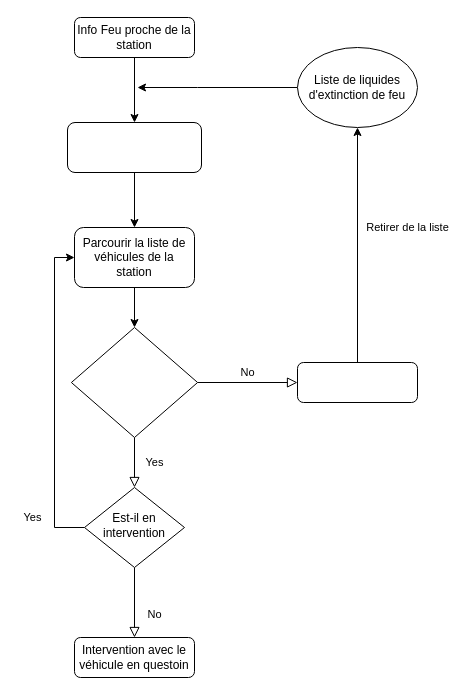
Some shapes in this 474 by 695 pixel diagram are drawn without their labels. Here are the shapes that lost their labels. From the top down, the box of each, then its label:
(66, 122, 202, 172): Determiner meilleur liquide pour le type de feu
(70, 326, 198, 438): La station a-t-elle un véhicule avec ce liquide?
(296, 362, 418, 402): Liquide en question
